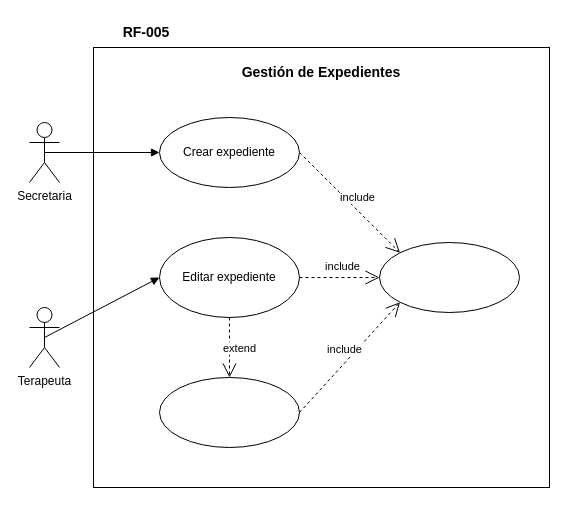
Image size: 567x505. Some labels were removed from this diagram. Here are the shapes that lost their labels. From the top down, the centre of each, then its label:
the point at 449,277: Guardar expediente
the point at 229,412: Adjuntar documentos complementarios
